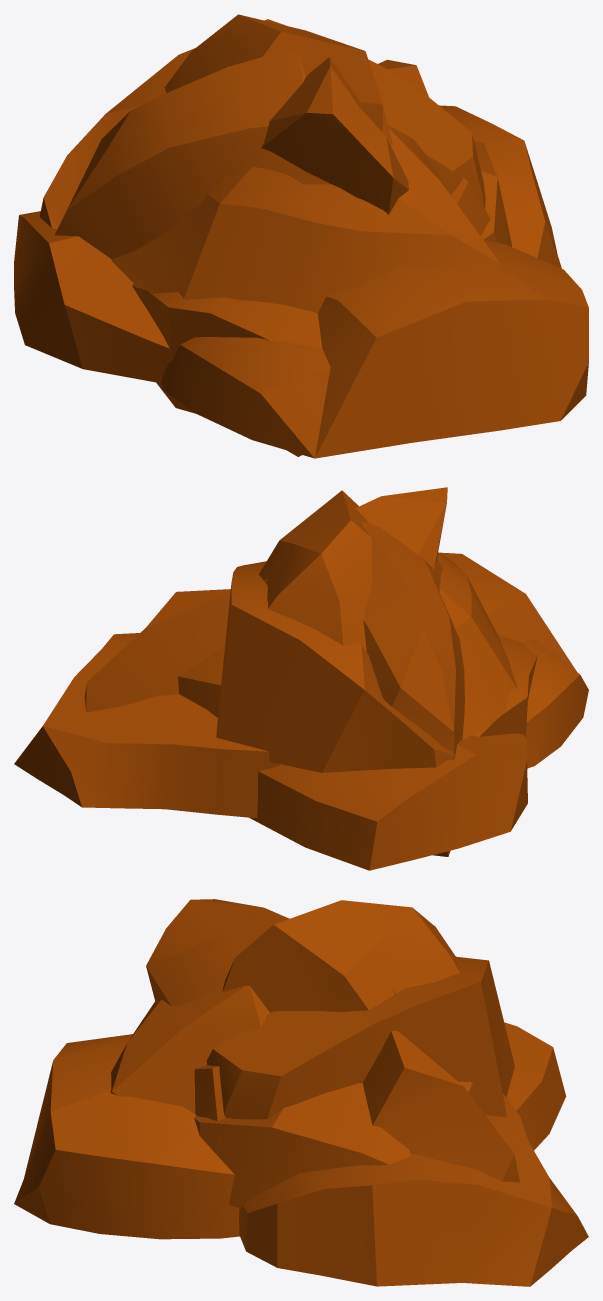
File: RockMount_5.FBX
The picture shows the model from 3 angles, top to bottom: view 1: azimuth 30°, elevation 25°; view 2: azimuth 150°, elevation 25°; view 3: azimuth 270°, elevation 25°; orthographic projection. The views are drawn at different scales.
Parts seen in each view (by area): view 1: rocks_mount_5; view 2: rocks_mount_5; view 3: rocks_mount_5.
Part boxes in pixels (box(x1,y1,x2,y2)): rocks_mount_5: box(14, 14, 588, 458); rocks_mount_5: box(14, 487, 588, 870); rocks_mount_5: box(14, 899, 588, 1286).
Size of the model in its own units: 6450 by 3720 by 6850.
